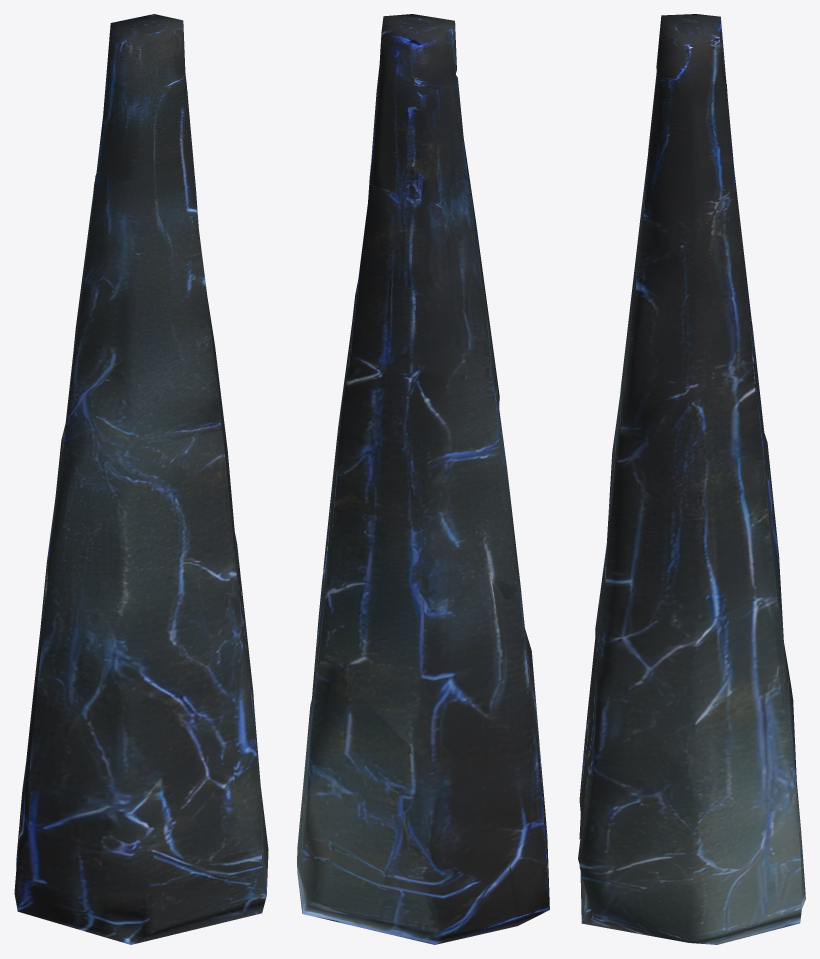
Rendered from tripo_convert_9a978082-f004-44cd-8b1b-0ab0d74646cc.fbx.
The picture shows the model from 3 angles, left to right: view 1: azimuth 30°, elevation 25°; view 2: azimuth 150°, elevation 25°; view 3: azimuth 270°, elevation 25°; orthographic projection.
Visible parts, largest first — view 1: tripo_node_9a978082; view 2: tripo_node_9a978082; view 3: tripo_node_9a978082.
Boxes of the visible parts, left/top/right/bottom form: tripo_node_9a978082: left=14, top=14, right=268, bottom=944; tripo_node_9a978082: left=297, top=14, right=549, bottom=944; tripo_node_9a978082: left=578, top=14, right=805, bottom=944.
Bounding box in the file's own units: 14.83 × 48.53 × 11.56.
Materials: 1 (1 with a texture image).
